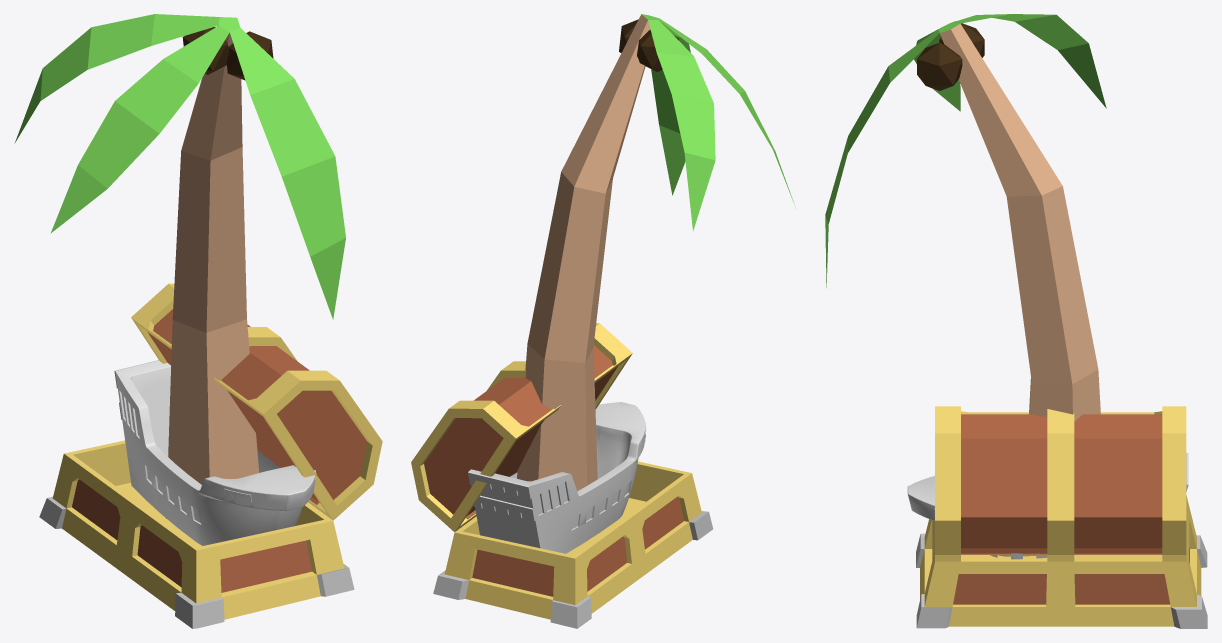
File: 3DAssets.glb
3 renders of one model, left to right at view 1: azimuth 30°, elevation 25°; view 2: azimuth 150°, elevation 25°; view 3: azimuth 270°, elevation 25°, orthographic. The views are drawn at different scales.
Parts seen in each view (by area): view 1: Tree, Chest, ChestLid, Boat; view 2: Tree, Chest, ChestLid, Boat; view 3: ChestLid, Tree, Chest, Boat.
Part boxes in pixels (x1,y1,x2,y2): Tree: (14,14,345,518); Chest: (39,440,354,628); ChestLid: (131,283,382,520); Boat: (114,360,316,545); Tree: (517,14,795,540); Chest: (433,461,713,628); ChestLid: (411,323,632,531); Boat: (468,402,646,553); ChestLid: (935,406,1186,561); Tree: (825,14,1106,421); Chest: (916,495,1207,628); Boat: (907,452,1188,559).
Bounding box in the file's own units: 9.63 × 16.84 × 10.56.
